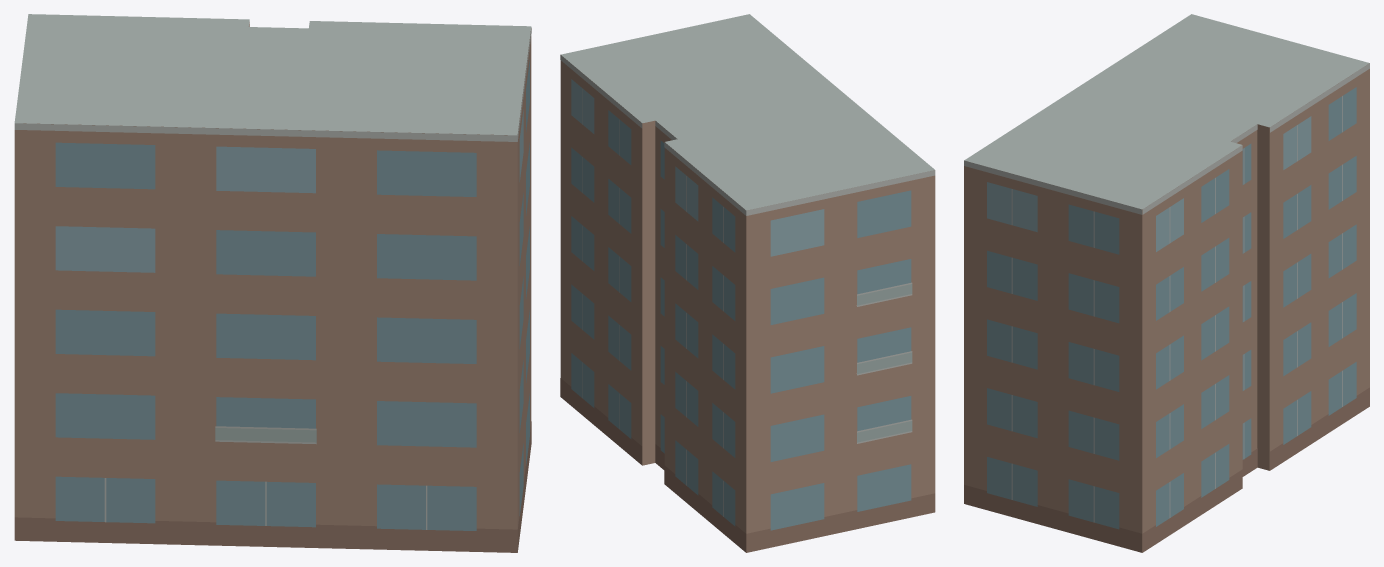
Rendered from survey-upis-32789676.glb.
3 views of the same model, side by side, from view 1: azimuth 30°, elevation 25°; view 2: azimuth 150°, elevation 25°; view 3: azimuth 270°, elevation 25° (orthographic). The views are drawn at different scales.
Visible parts, largest first — view 1: survey-upis-32789676.tmp; view 2: survey-upis-32789676.tmp; view 3: survey-upis-32789676.tmp.
Boxes of the visible parts, bbox=[...] form: survey-upis-32789676.tmp: bbox=[14, 14, 531, 552]; survey-upis-32789676.tmp: bbox=[560, 14, 935, 552]; survey-upis-32789676.tmp: bbox=[964, 14, 1369, 552].
Bounding box in the file's own units: 18.62 × 15.25 × 16.34.
